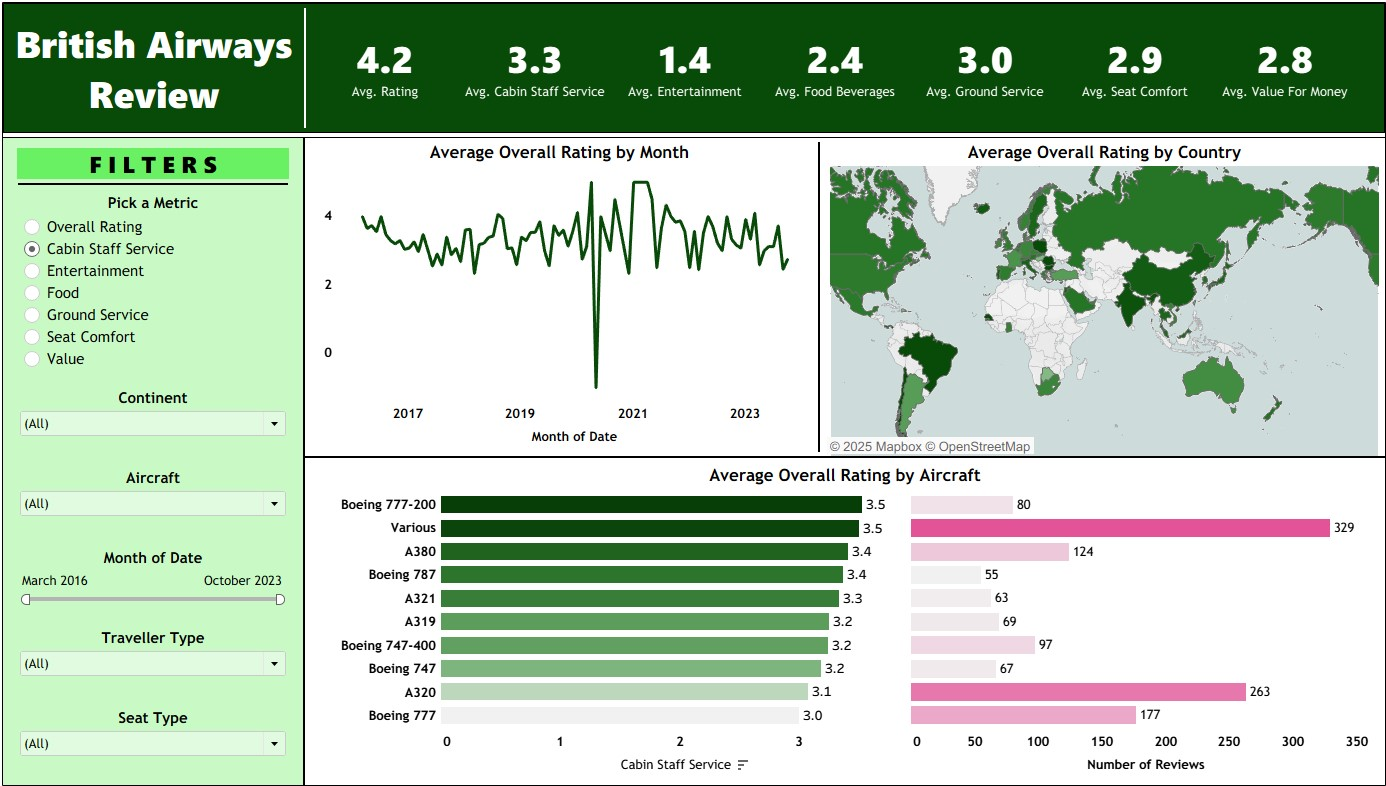

The dashboard page shown, as its layout file describes it:
{"tool":"tableau","page":{"name":"British Airways Dashboard","canvas":[1400,800],"ordinal":0},"visuals":[{"type":"text","box":[10,10,300,128]},{"type":"blank","box":[310,10,2,128]},{"type":"worksheet","title":"Summary","mark":"Automatic","box":[312,10,1078,128]},{"type":"blank","box":[9,139,1382,5]},{"type":"blank","box":[309,144,2,647]},{"type":"text","box":[311,144,509,28]},{"type":"blank","box":[820,144,10,318]},{"type":"text","box":[830,144,561,28]},{"type":"text","box":[19,154,280,35]},{"type":"worksheet","title":"Month","mark":"Line","rows":["Calculation_156218659308216320"],"cols":["date"],"box":[311,172,509,290]},{"type":"worksheet","title":"Map (Global)","mark":"Multipolygon","box":[830,172,561,290]},{"type":"blank","box":[19,189,280,2]},{"type":"parameter","param":"[Parameters].[Parameter 1]","box":[19,191,280,200]},{"type":"filter","title":"Map (Global)","param":"[federated.1jvq11l1t9cn6j1blmh3p0k78mx8].[none:Continent:nk]","box":[19,391,280,80]},{"type":"blank","box":[311,462,1080,5]},{"type":"text","box":[311,467,1080,28]},{"type":"filter","title":"Map (Global)","param":"[federated.1jvq11l1t9cn6j1blmh3p0k78mx8].[Aircraft (group)]","box":[19,471,280,80]},{"type":"worksheet","title":"Aircraft","mark":"Bar","cols":["Calculation_156218659308216320","ba_reviews.csv_A6BFE85E507E401687AFA5AD7A91FEE4"],"box":[311,495,1080,296]},{"type":"filter","title":"Map (Global)","param":"[federated.1jvq11l1t9cn6j1blmh3p0k78mx8].[tmn:date:qk]","box":[19,551,280,80]},{"type":"filter","title":"Map (Global)","param":"[federated.1jvq11l1t9cn6j1blmh3p0k78mx8].[none:traveller_type:nk]","box":[19,631,280,80]},{"type":"filter","title":"Map (Global)","param":"[federated.1jvq11l1t9cn6j1blmh3p0k78mx8].[none:seat_type:nk]","box":[19,711,280,70]}]}

Visuals, with their boxes in screenshot pixels (x1, y1, x2, y2), scaled from the page's 1400x800 canvas onto the 1386x786 screenshot:
text: 10:10:307:136
blank: 307:10:309:136
"Summary" worksheet: 309:10:1376:136
blank: 9:137:1377:141
blank: 306:141:308:777
text: 308:141:812:169
blank: 812:141:822:454
text: 822:141:1377:169
text: 19:151:296:186
"Month" worksheet (Line marks): 308:169:812:454
"Map (Global)" worksheet (Multipolygon marks): 822:169:1377:454
blank: 19:186:296:188
parameter: 19:188:296:384
"Map (Global)" filter: 19:384:296:463
blank: 308:454:1377:459
text: 308:459:1377:486
"Map (Global)" filter: 19:463:296:541
"Aircraft" worksheet (Bar marks): 308:486:1377:777
"Map (Global)" filter: 19:541:296:620
"Map (Global)" filter: 19:620:296:699
"Map (Global)" filter: 19:699:296:767
